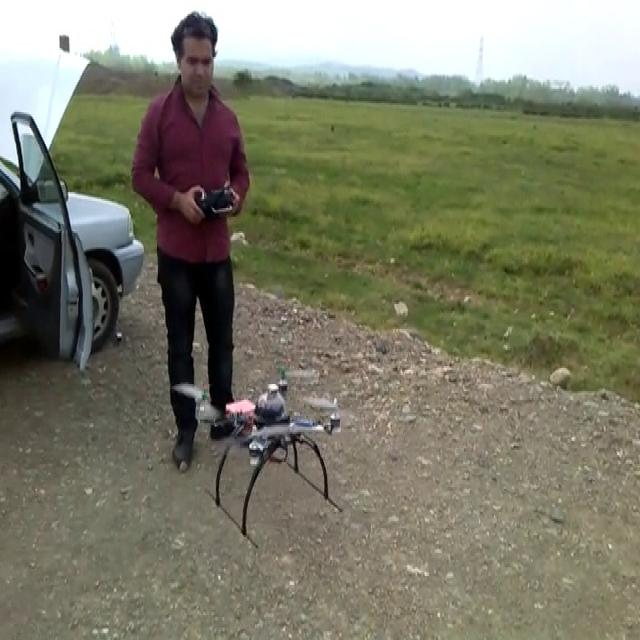drone: (173, 361, 360, 547)
